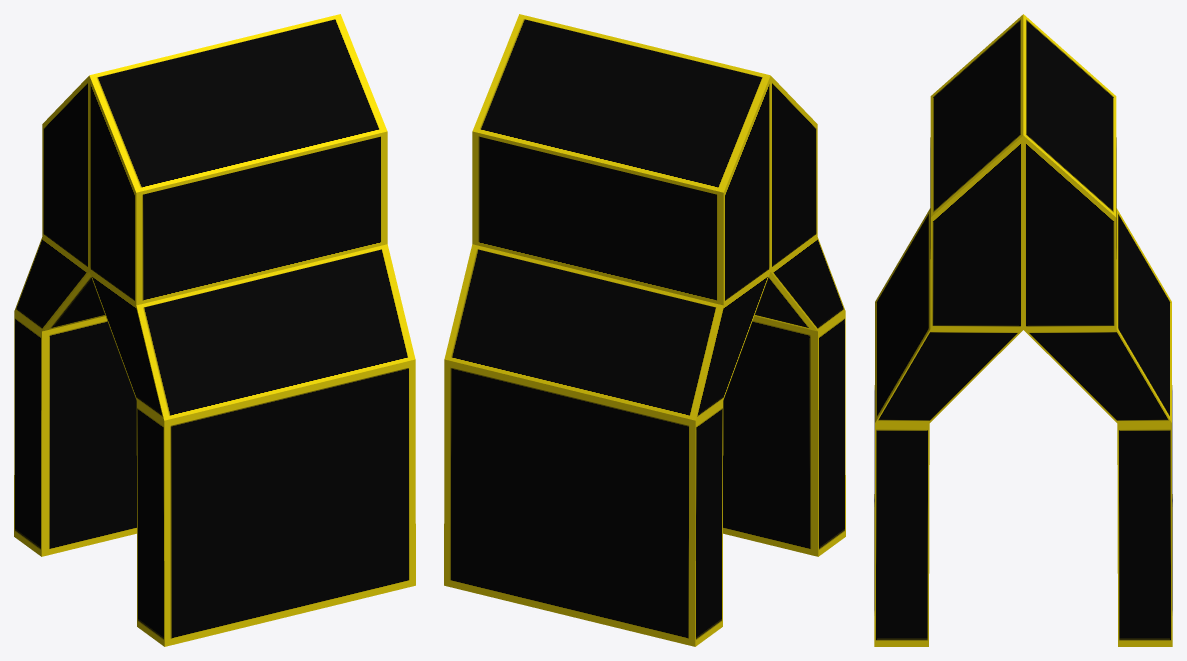
Rendered from HurdleA.fbx.
3 renders of one model, left to right at view 1: azimuth 30°, elevation 25°; view 2: azimuth 150°, elevation 25°; view 3: azimuth 270°, elevation 25°, orthographic.
Parts seen in each view (by area): view 1: ramp.002; view 2: ramp.002; view 3: ramp.002.
Boxes of the visible parts, <box> form: ramp.002: <box>14,14,415,646</box>; ramp.002: <box>444,14,845,646</box>; ramp.002: <box>874,14,1172,646</box>.
Bounding box in the file's own units: 560 × 1100 × 581.
